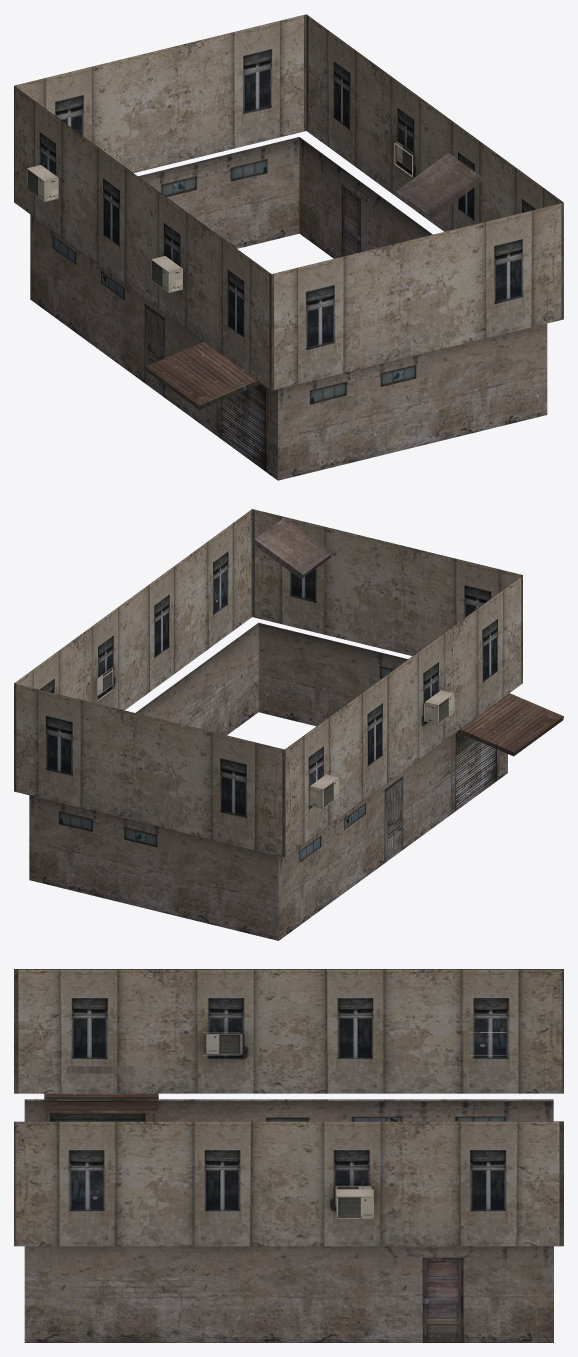
File: building12.fbx
The picture shows the model from 3 angles, top to bottom: view 1: azimuth 30°, elevation 25°; view 2: azimuth 150°, elevation 25°; view 3: azimuth 270°, elevation 25°; orthographic projection. The views are drawn at different scales.
Parts seen in each view (by area): view 1: Building_09; view 2: Building_09; view 3: Building_09.
Boxes of the visible parts, x1,y1,x2,y2 form: Building_09: (14, 14, 563, 480); Building_09: (14, 509, 563, 940); Building_09: (14, 969, 563, 1342).
Size of the model in its own units: 1369 by 847 by 1674.
Materials: 1 (1 with a texture image).
